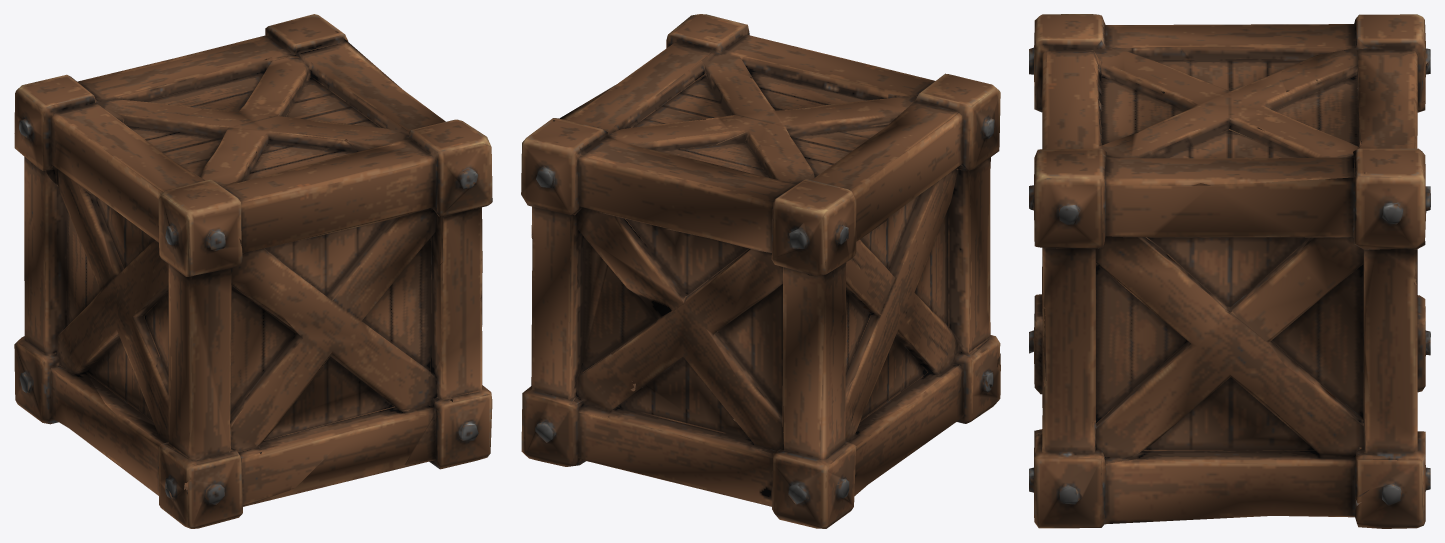
The model's file is crate.glb.
3 renders of one model, left to right at view 1: azimuth 30°, elevation 25°; view 2: azimuth 150°, elevation 25°; view 3: azimuth 270°, elevation 25°, orthographic. The views are drawn at different scales.
Visible parts, largest first — view 1: Mesh1.0; view 2: Mesh1.0; view 3: Mesh1.0.
Boxes of the visible parts, x1,y1,x2,y2 form: Mesh1.0: (14,14,492,528); Mesh1.0: (521,14,1000,528); Mesh1.0: (1029,14,1430,528).
Size of the model in its own units: 2 by 1.94 by 1.99.
Materials: 1 (1 with a texture image).
